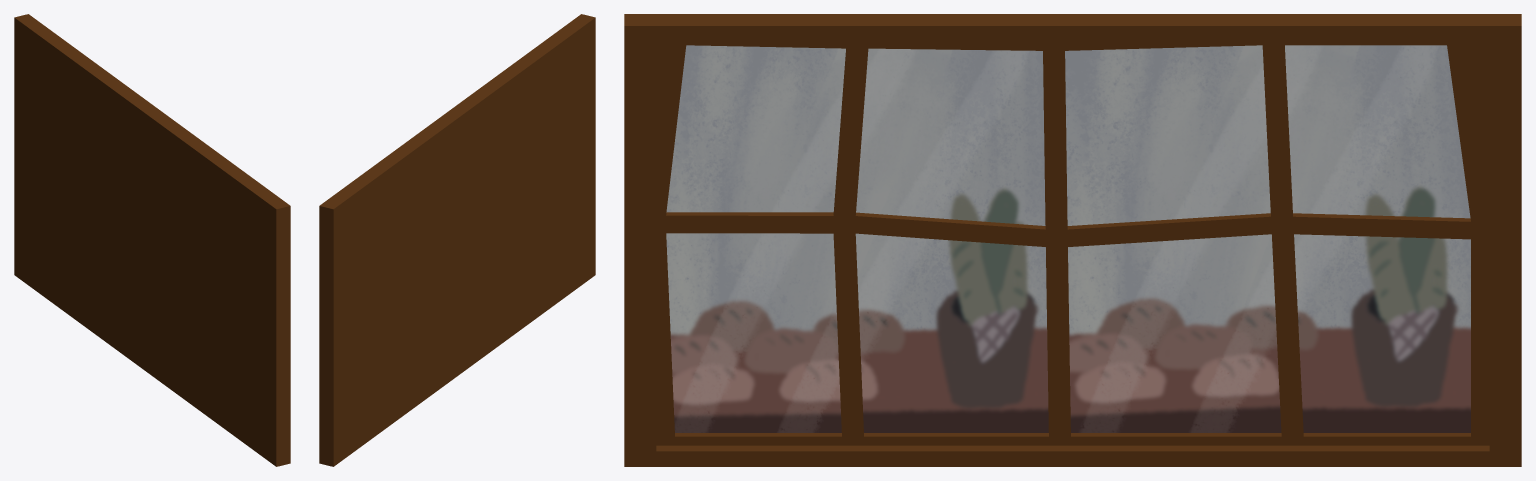
Rendered from CafeWindow.fbx.
3 views of the same model, side by side, from view 1: azimuth 30°, elevation 25°; view 2: azimuth 150°, elevation 25°; view 3: azimuth 270°, elevation 25° (orthographic). The views are drawn at different scales.
Visible parts, largest first — view 1: Cube.029; view 2: Cube.029; view 3: Cube.029.
Boxes of the visible parts, x1=… form: Cube.029: x1=14, y1=14, x2=290, y2=466; Cube.029: x1=319, y1=14, x2=595, y2=466; Cube.029: x1=624, y1=14, x2=1521, y2=466.
Size of the model in its own units: 9.73 by 168 by 310.
